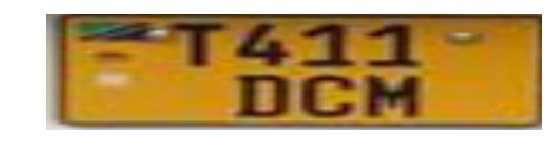T: (169, 20, 230, 72)
